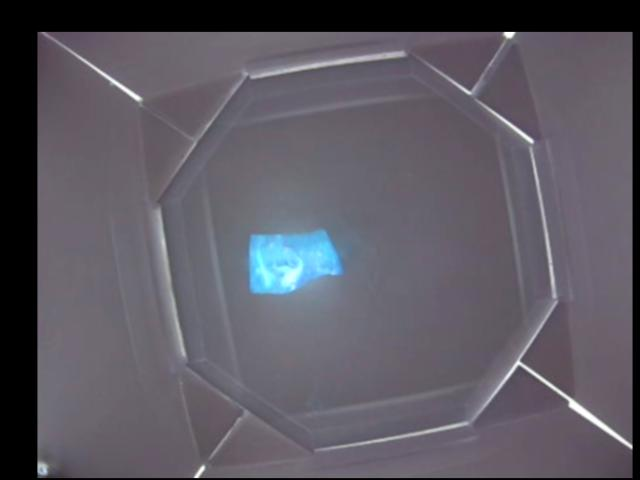Carrot: (248, 227, 343, 293)
